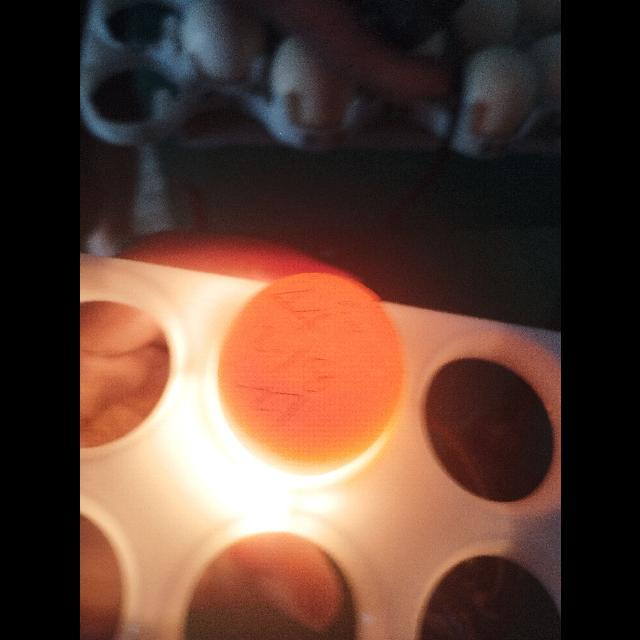Infertile: (214, 270, 408, 480)
